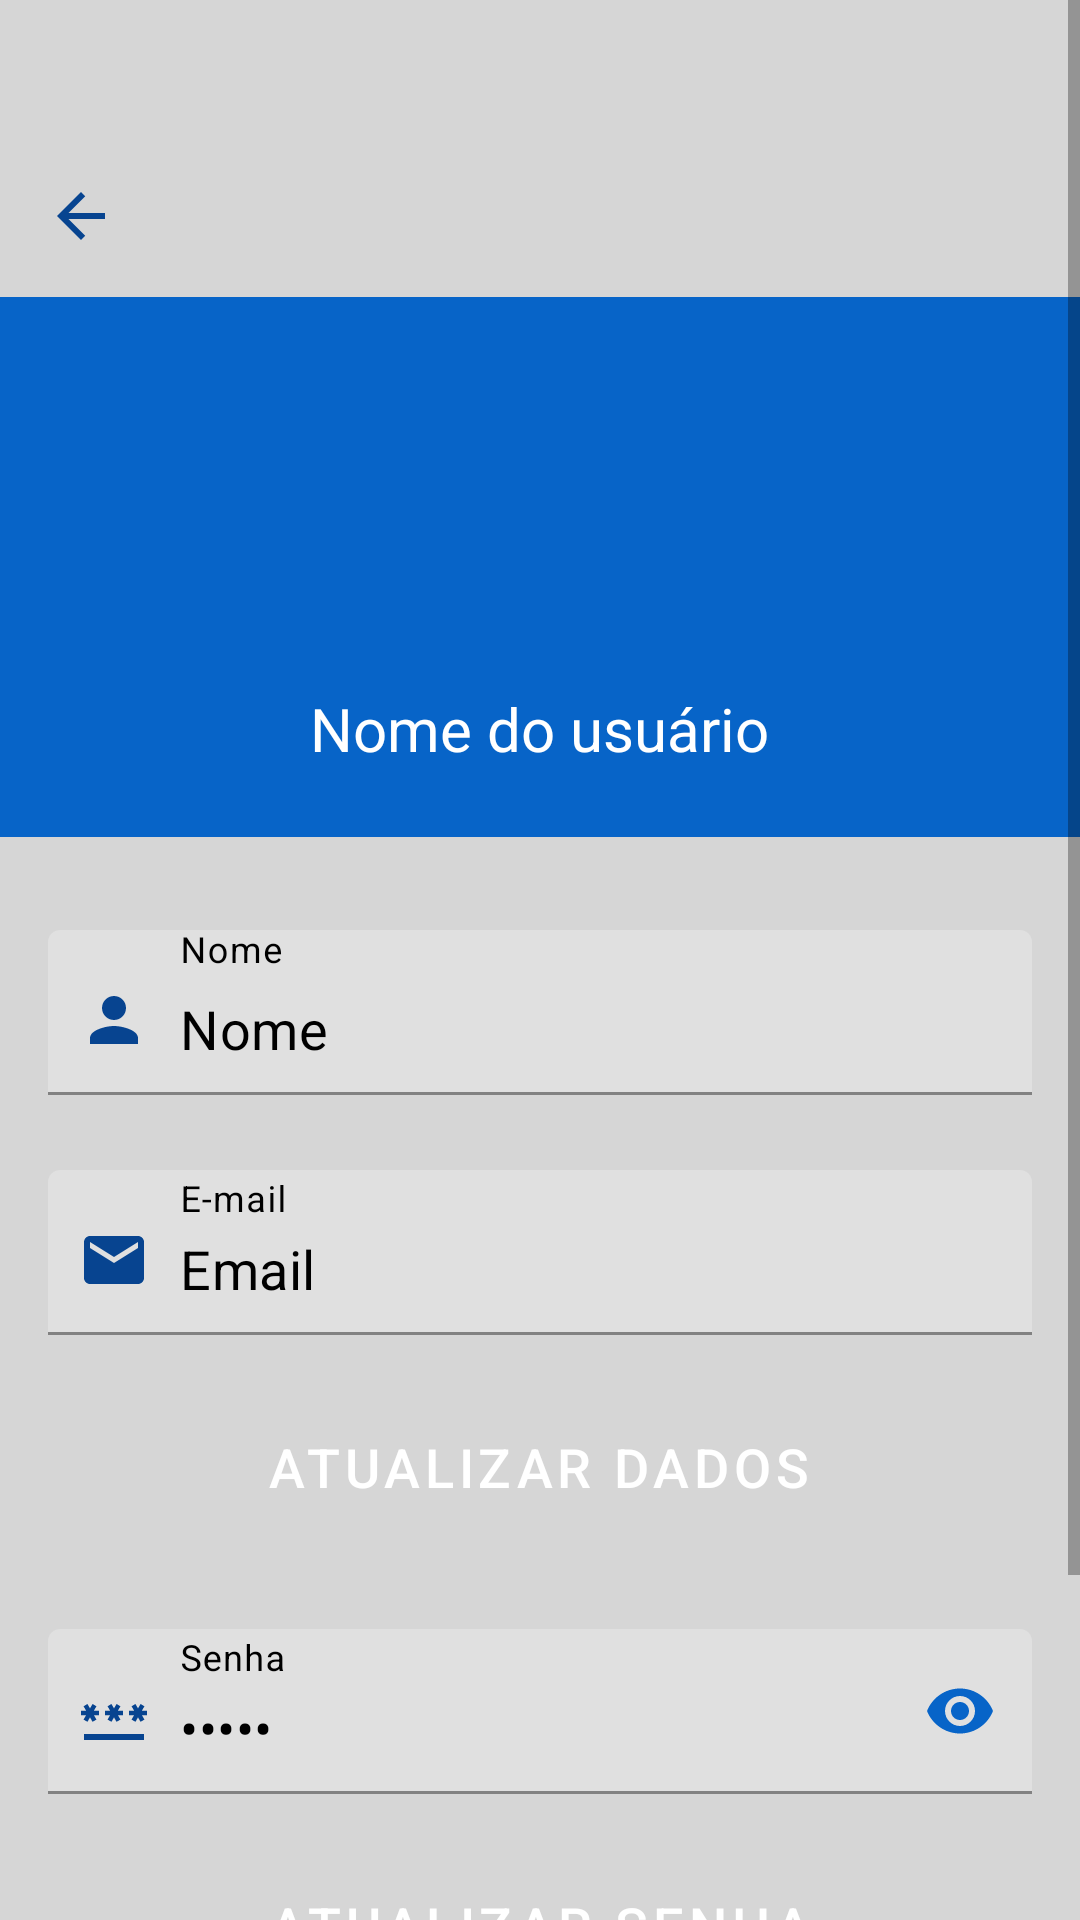

Screen size 1080*1920. Icon name, then its box in pixels as region(x1, y1, x2, y2):
arrow back: region(57, 192, 105, 240)
